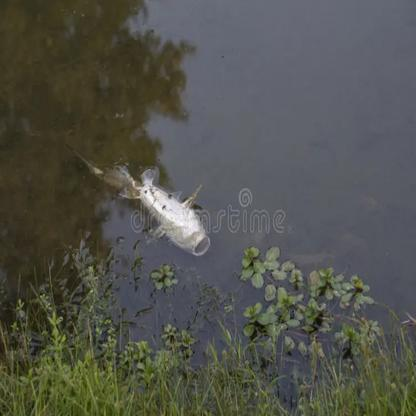deceased fish: (76, 148, 212, 260)
